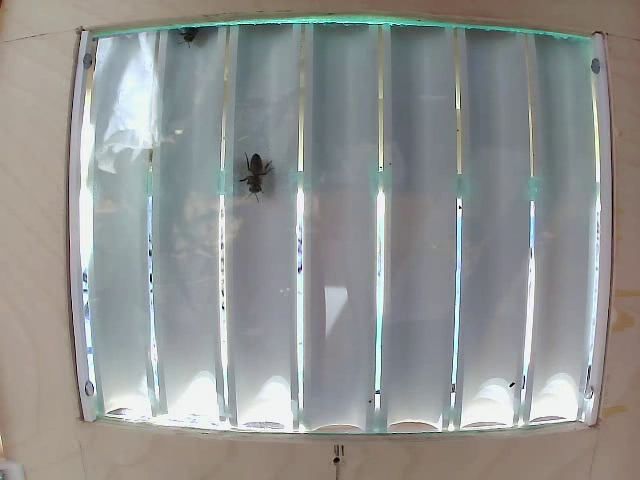bee: (232, 138, 277, 198)
